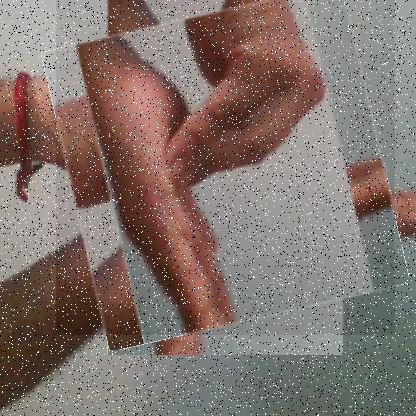Z: (56, 0, 396, 336)
